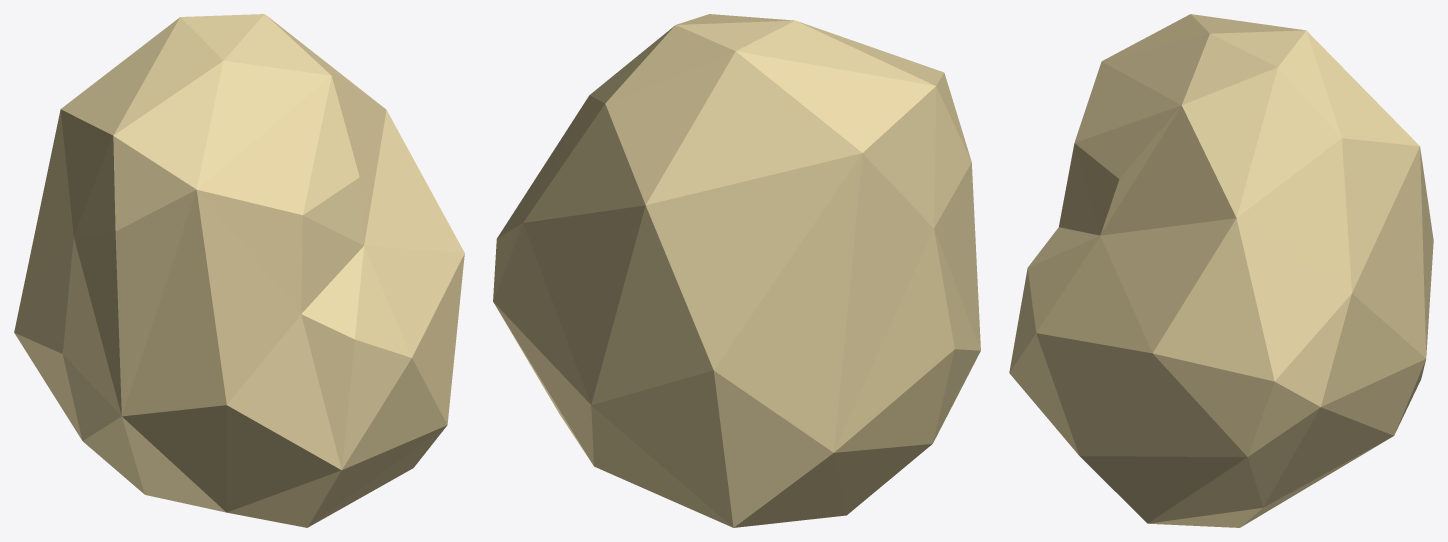
The model's file is Rock (73).fbx.
3 renders of one model, left to right at view 1: azimuth 30°, elevation 25°; view 2: azimuth 150°, elevation 25°; view 3: azimuth 270°, elevation 25°, orthographic. The views are drawn at different scales.
Visible parts, largest first — view 1: Asteroid72; view 2: Asteroid72; view 3: Asteroid72.
Part boxes in pixels (box(x1,y1,x2,y2)): Asteroid72: box(14, 14, 464, 527); Asteroid72: box(493, 14, 980, 527); Asteroid72: box(1009, 14, 1433, 527).
Bounding box in the file's own units: 58.49 × 65.8 × 55.29.
